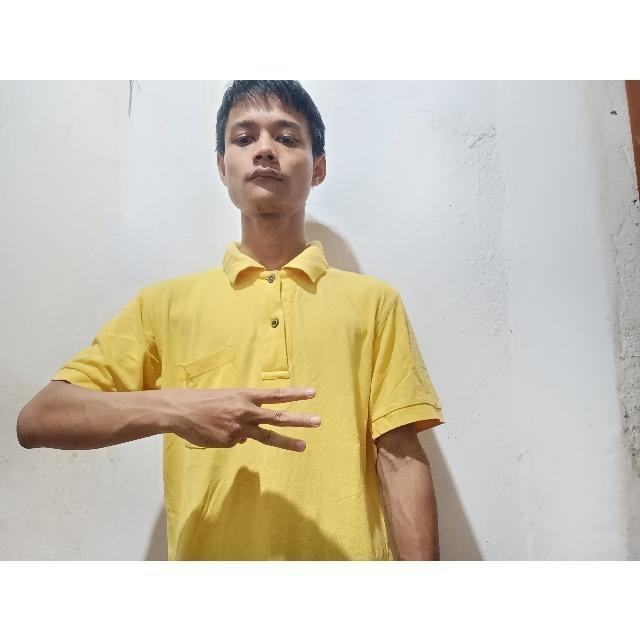E: (158, 374, 324, 459)
